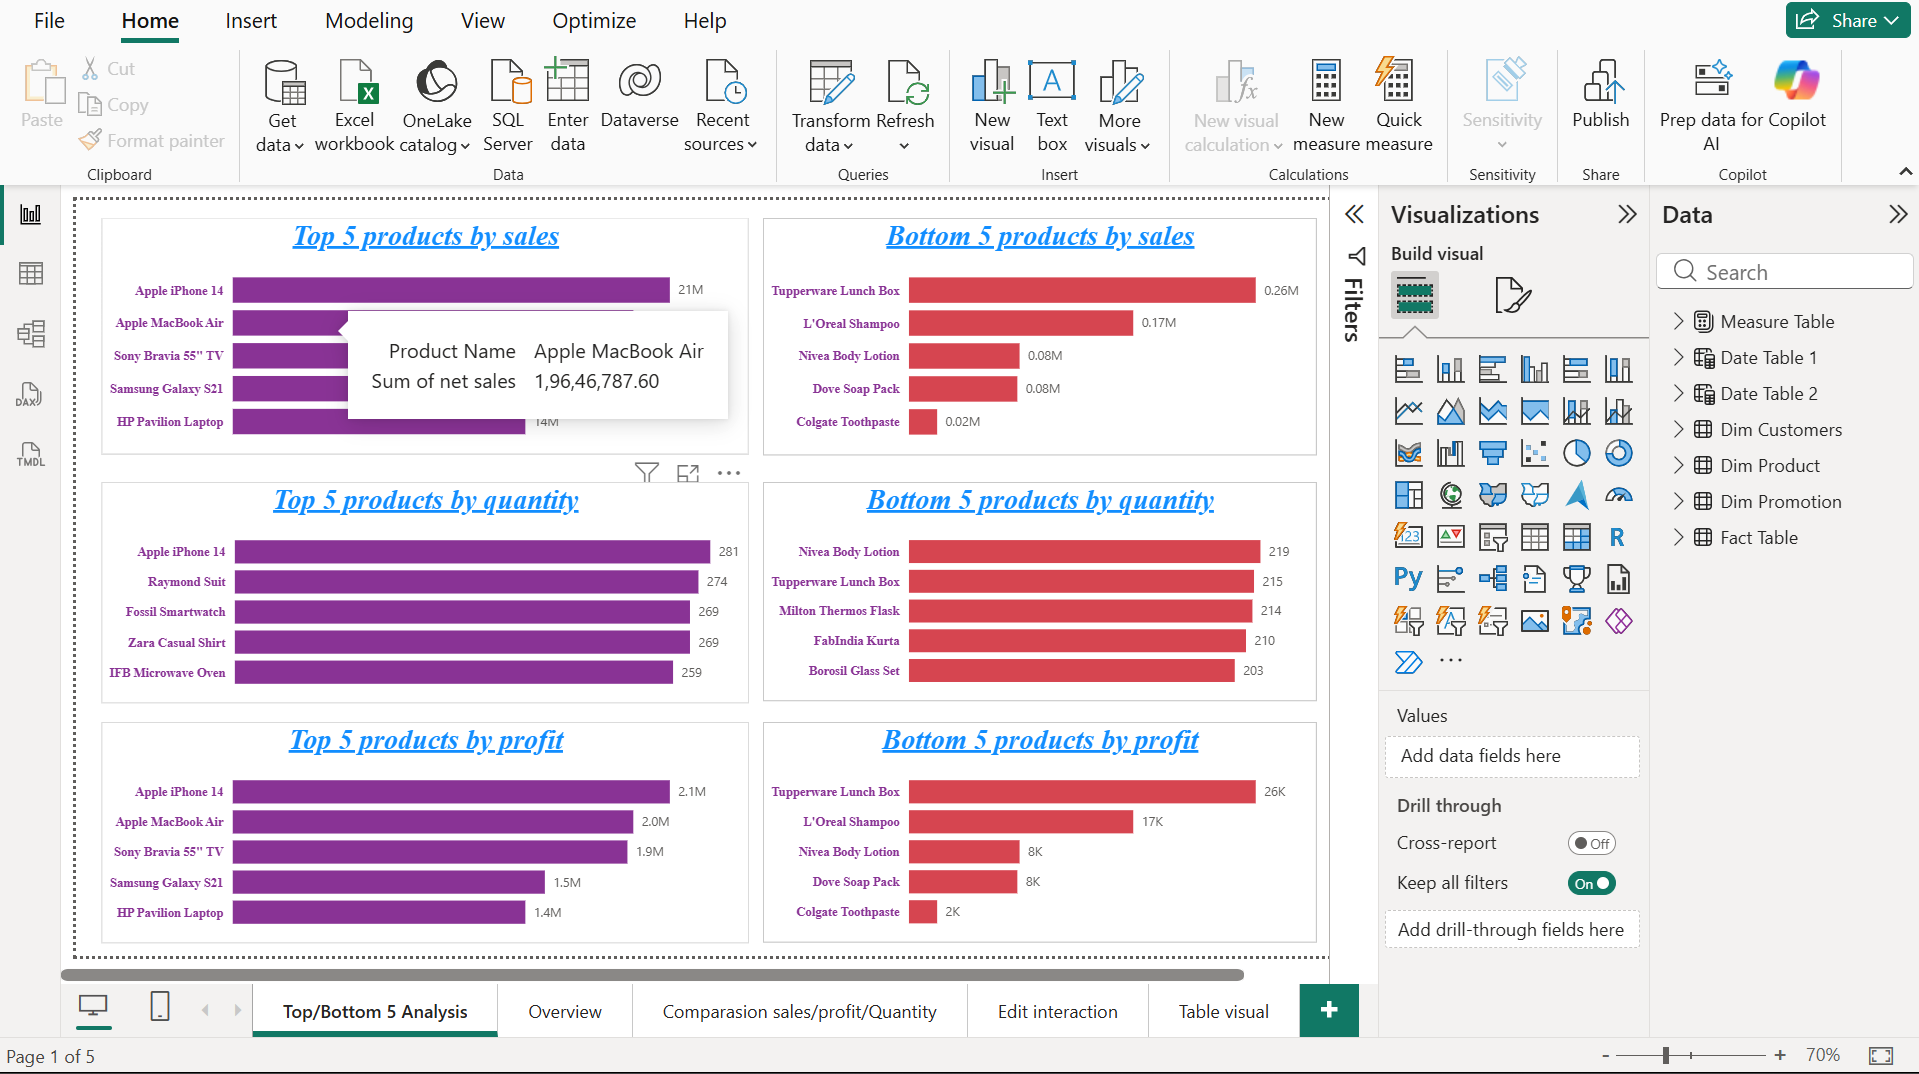

What the dashboard file says about the page in this screenshot:
{"tool":"powerbi","page":{"name":"Top/Bottom 5 Analysis","canvas":[1280,720],"ordinal":0},"visuals":[{"type":"barChart","title":"Top 5 products by sales","fields":{"Category":["Dim Product.Product Name"],"Y":["Sum(Fact Table.net value)"]},"box":[24.2,16.8,616.4,225.3],"z":0},{"type":"barChart","title":"Bottom 5 products by sales","fields":{"Category":["Dim Product.Product Name"],"Y":["Sum(Fact Table.net value)"]},"box":[654.3,17.1,527.1,225.7],"z":1000},{"type":"barChart","title":"Top 5 products by quantity","fields":{"Category":["Dim Product.Product Name"],"Y":["Sum(Fact Table.Units Sold)"]},"box":[24.2,268.2,616.4,210.4],"z":2000},{"type":"barChart","title":"Bottom 5 products by quantity","fields":{"Category":["Dim Product.Product Name"],"Y":["Sum(Fact Table.Units Sold)"]},"box":[654.3,268.6,527.1,208.6],"z":3000},{"type":"barChart","title":"Top 5 products by profit","fields":{"Category":["Dim Product.Product Name"],"Y":["Sum(Fact Table.profit)"]},"box":[24.2,497.2,616.4,210.4],"z":4000},{"type":"barChart","title":"Bottom 5 products by  profit","fields":{"Category":["Dim Product.Product Name"],"Y":["Sum(Fact Table.profit)"]},"box":[654.3,497.1,527.1,210],"z":5000}]}

Visuals, with their boxes on the page's 1280x720 design canvas (x1, y1, x2, y2). These are canvas units, not pixel positions in the 1919x1074 screenshot, which may show the page scaled, cropped or inside an application window:
"Top 5 products by sales" barChart: locate(24, 17, 641, 242)
"Bottom 5 products by sales" barChart: locate(654, 17, 1181, 243)
"Top 5 products by quantity" barChart: locate(24, 268, 641, 479)
"Bottom 5 products by quantity" barChart: locate(654, 269, 1181, 477)
"Top 5 products by profit" barChart: locate(24, 497, 641, 708)
"Bottom 5 products by  profit" barChart: locate(654, 497, 1181, 707)
